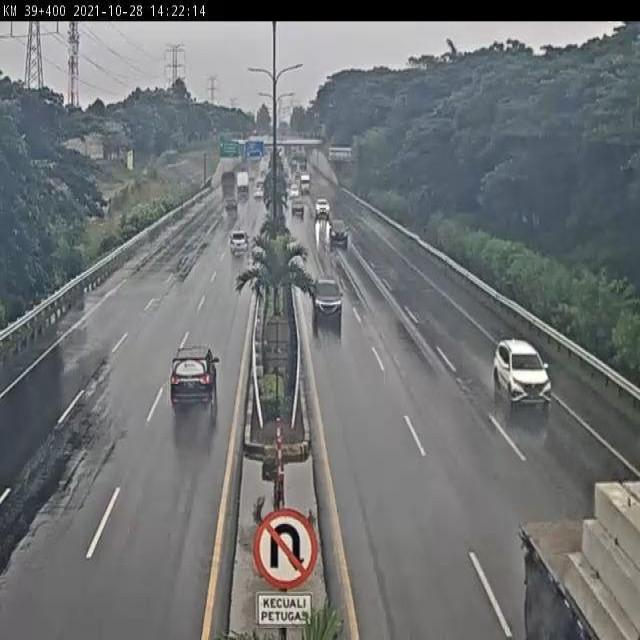car: (491, 330, 553, 410), (168, 344, 219, 415), (311, 274, 343, 322), (228, 227, 252, 257)
